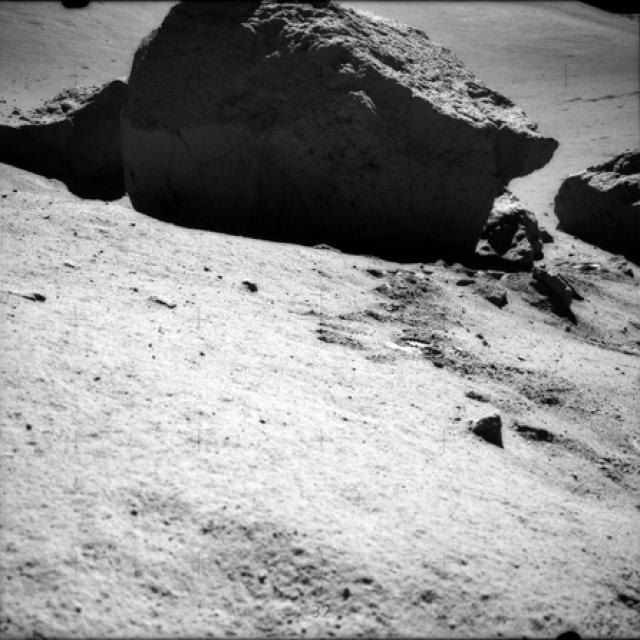rock: (0, 66, 126, 197), (560, 127, 639, 260), (464, 402, 514, 457), (477, 278, 511, 309)
